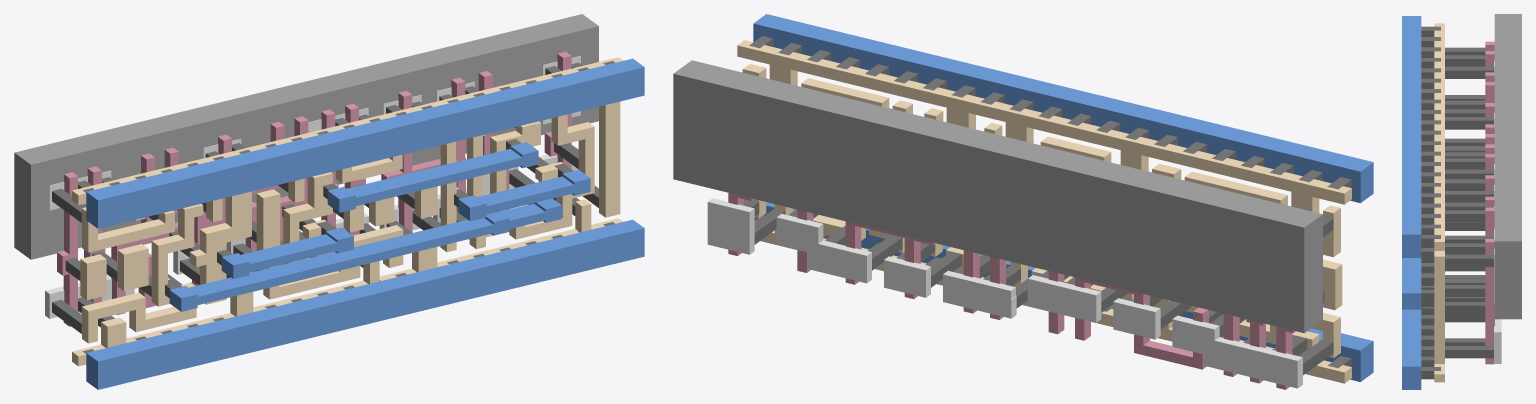
File: sky130_fd_sc_hd__mux4_1.gds.gltf
The picture shows the model from 3 angles, left to right: view 1: azimuth 30°, elevation 25°; view 2: azimuth 150°, elevation 25°; view 3: azimuth 270°, elevation 25°; orthographic projection. The views are drawn at different scales.
Parts seen in each view (by area): view 1: sky130_fd_sc_hd__mux4_1_met1, sky130_fd_sc_hd__mux4_1_li1, sky130_fd_sc_hd__mux4_1_nwell, sky130_fd_sc_hd__mux4_1_poly, sky130_fd_sc_hd__mux4_1_licon, sky130_fd_sc_hd__mux4_1_diff, sky130_fd_sc_hd__mux4_1_mcon; view 2: sky130_fd_sc_hd__mux4_1_nwell, sky130_fd_sc_hd__mux4_1_li1, sky130_fd_sc_hd__mux4_1_met1, sky130_fd_sc_hd__mux4_1_diff, sky130_fd_sc_hd__mux4_1_poly, sky130_fd_sc_hd__mux4_1_licon, sky130_fd_sc_hd__mux4_1_mcon; view 3: sky130_fd_sc_hd__mux4_1_licon, sky130_fd_sc_hd__mux4_1_nwell, sky130_fd_sc_hd__mux4_1_met1, sky130_fd_sc_hd__mux4_1_mcon, sky130_fd_sc_hd__mux4_1_li1, sky130_fd_sc_hd__mux4_1_poly, sky130_fd_sc_hd__mux4_1_diff.
Part boxes in pixels (x1,y1,x2,y2): sky130_fd_sc_hd__mux4_1_met1: (86,58,644,389); sky130_fd_sc_hd__mux4_1_li1: (72,57,622,366); sky130_fd_sc_hd__mux4_1_nwell: (14,14,598,259); sky130_fd_sc_hd__mux4_1_poly: (57,52,571,326); sky130_fd_sc_hd__mux4_1_licon: (52,62,598,333); sky130_fd_sc_hd__mux4_1_diff: (45,56,580,318); sky130_fd_sc_hd__mux4_1_mcon: (83,61,614,353); sky130_fd_sc_hd__mux4_1_nwell: (673,60,1322,333); sky130_fd_sc_hd__mux4_1_li1: (737,40,1351,383); sky130_fd_sc_hd__mux4_1_met1: (753,14,1373,381); sky130_fd_sc_hd__mux4_1_diff: (707,198,1302,388); sky130_fd_sc_hd__mux4_1_poly: (728,193,1295,389); sky130_fd_sc_hd__mux4_1_licon: (744,79,1333,375); sky130_fd_sc_hd__mux4_1_mcon: (749,36,1351,367); sky130_fd_sc_hd__mux4_1_licon: (1445,47,1493,358); sky130_fd_sc_hd__mux4_1_nwell: (1494,14,1521,319); sky130_fd_sc_hd__mux4_1_met1: (1402,16,1421,389); sky130_fd_sc_hd__mux4_1_mcon: (1421,26,1440,379); sky130_fd_sc_hd__mux4_1_li1: (1434,23,1444,382); sky130_fd_sc_hd__mux4_1_poly: (1485,41,1494,364); sky130_fd_sc_hd__mux4_1_diff: (1494,60,1501,363).
Size of the model in its own units: 10.04 by 3.2 by 2.24.
